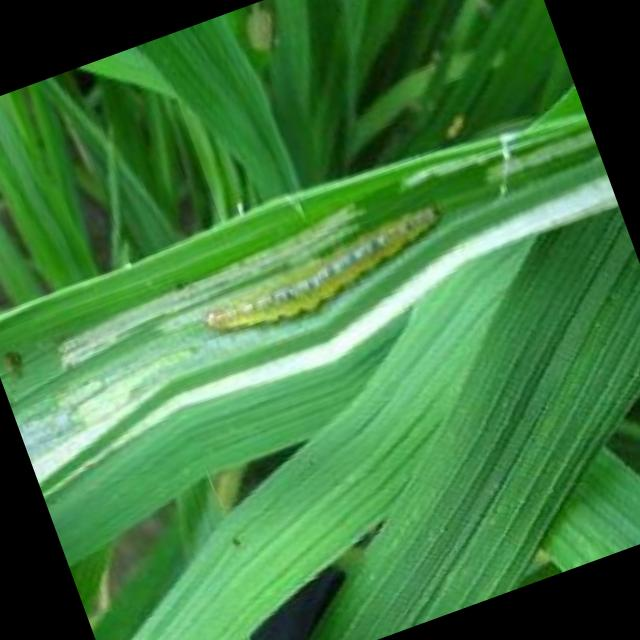leaf-folder: (188, 192, 466, 360)
